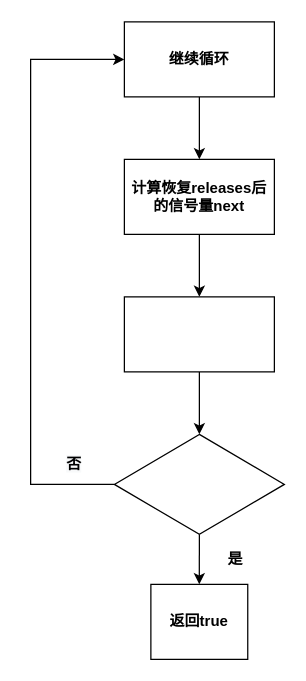
Some shapes in this 306 by 681 pixel diagram are drawn without their labels. Each missing label, with the box of its shape:
修改是否成功: (113, 433, 284, 534)
尝试CAS修改state为next: (123, 296, 274, 372)
